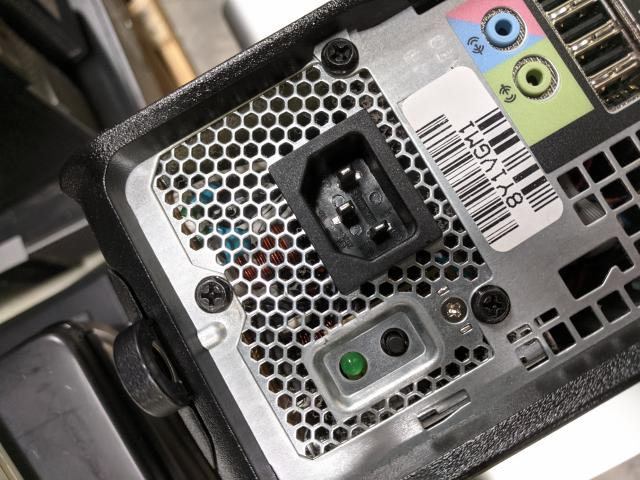CRS: (191, 278, 239, 313), (470, 288, 511, 326), (318, 38, 361, 74), (441, 296, 468, 322)
